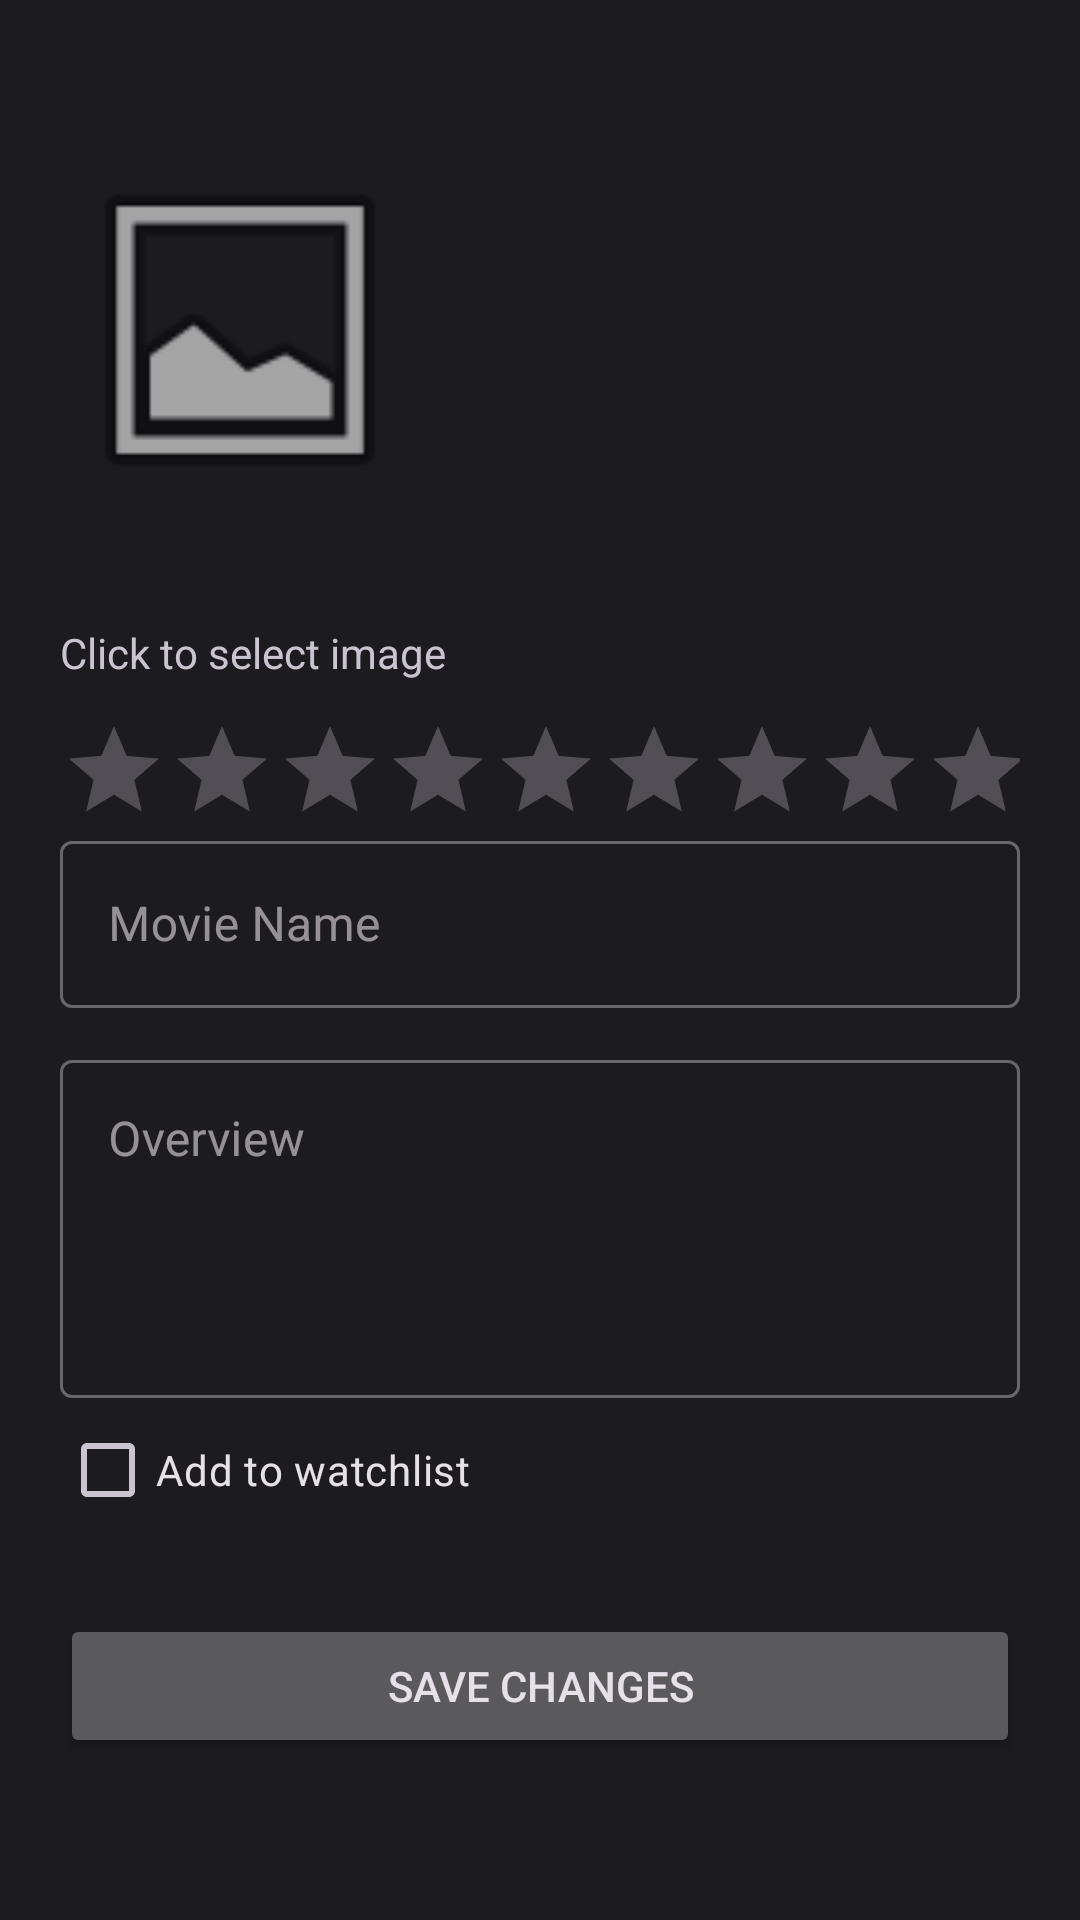

Screen size 1080 × 1920. Icon name, then its center in pixels as (x,y):
gallery: (240,330)
